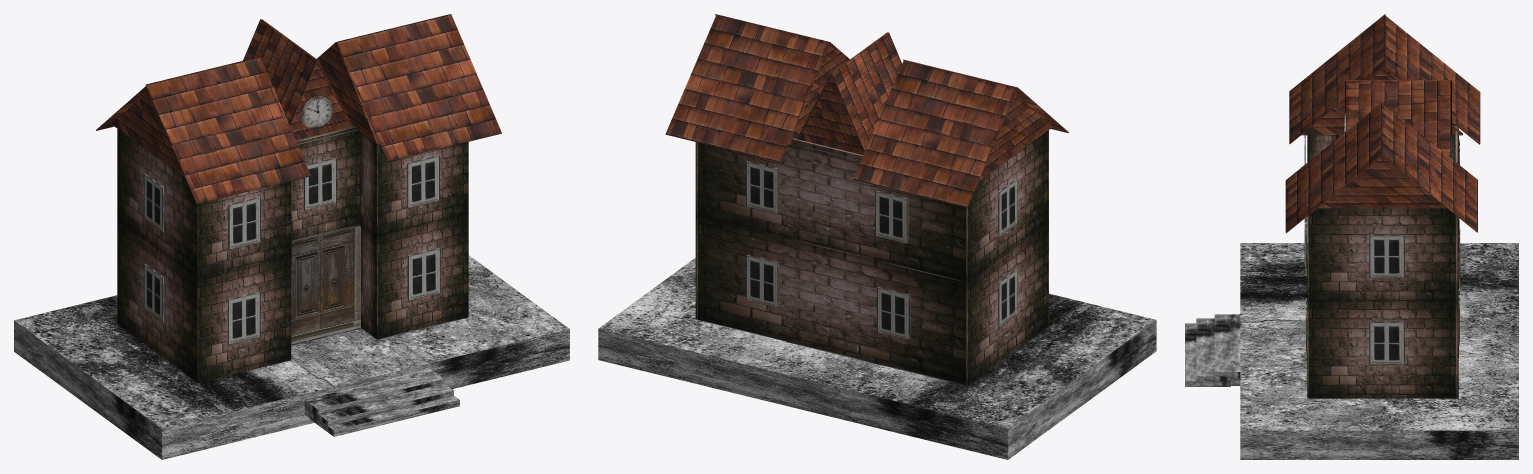
File: haunted_house.glb
The picture shows the model from 3 angles, left to right: view 1: azimuth 30°, elevation 25°; view 2: azimuth 150°, elevation 25°; view 3: azimuth 270°, elevation 25°; orthographic projection. The views are drawn at different scales.
Parts seen in each view (by area): view 1: Object_24, Object_14, Object_55, Object_68, Object_4, Object_67, Object_23, Object_17, Object_12, Object_13, Object_11, Object_58 (+17 smaller); view 2: Object_24, Object_66, Object_19, Object_65, Object_2, Object_67, Object_17, Object_58, Object_60, Object_61, Object_44, Object_43 (+6 smaller); view 3: Object_24, Object_7, Object_18, Object_14, Object_65, Object_55, Object_25, Object_2, Object_64, Object_26, Object_39, Object_40 (+6 smaller).
Boxes of the visible parts, x1,y1,x2,y2 form: Object_24: [14, 255, 569, 459]; Object_14: [337, 14, 501, 161]; Object_55: [146, 56, 310, 203]; Object_68: [197, 258, 290, 382]; Object_4: [377, 215, 468, 338]; Object_67: [117, 222, 196, 382]; Object_23: [291, 226, 361, 345]; Object_17: [117, 129, 196, 279]; Object_12: [197, 181, 290, 281]; Object_13: [377, 142, 468, 236]; Object_11: [292, 126, 359, 242]; Object_58: [243, 19, 317, 126]; Object_24: [598, 258, 1156, 459]; Object_66: [695, 216, 965, 384]; Object_19: [695, 138, 965, 283]; Object_65: [665, 14, 830, 162]; Object_2: [853, 61, 1017, 207]; Object_67: [965, 225, 1048, 385]; Object_17: [965, 131, 1048, 282]; Object_58: [831, 32, 901, 152]; Object_60: [798, 76, 864, 154]; Object_61: [979, 95, 1053, 180]; Object_44: [877, 287, 910, 340]; Object_43: [875, 190, 908, 243]; Object_24: [1240, 243, 1518, 459]; Object_7: [1308, 302, 1458, 398]; Object_18: [1308, 208, 1458, 304]; Object_14: [1285, 103, 1382, 232]; Object_65: [1382, 103, 1477, 232]; Object_55: [1289, 14, 1385, 143]; Object_25: [1346, 80, 1450, 157]; Object_2: [1383, 15, 1480, 144]; Object_64: [1318, 156, 1446, 208]; Object_26: [1214, 314, 1240, 385]; Object_39: [1369, 322, 1404, 364]; Object_40: [1369, 235, 1404, 277].
Bounding box in the file's own units: 372 × 268 × 280.
Materials: 68 (67 with a texture image).
